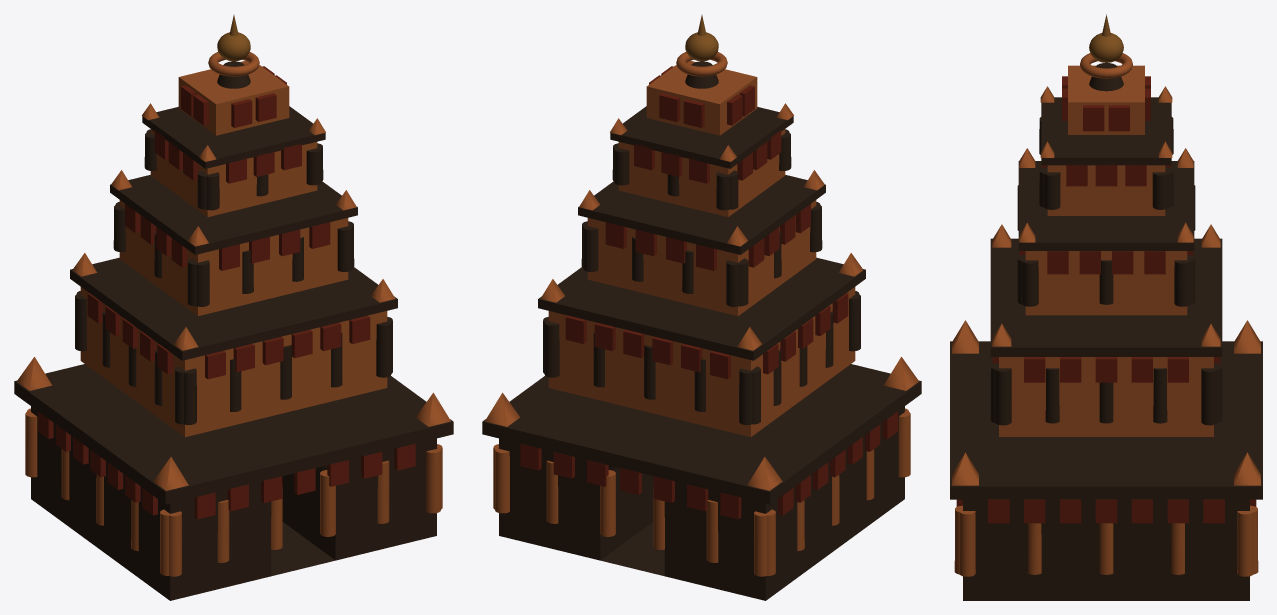
Rendered from chola-gopuram.obj.
The picture shows the model from 3 angles, left to right: view 1: azimuth 30°, elevation 25°; view 2: azimuth 150°, elevation 25°; view 3: azimuth 270°, elevation 25°; orthographic projection. The views are drawn at different scales.
Visible parts, largest first — view 1: base_facade_archway, cornice_0, tier1_wall, cornice_1, tier2_wall, cornice_2, cornice_3, tier3_wall, crown_block, pilaster_back_0, pilaster_front_1, pilaster_front_0 (+15 smaller); view 2: base_facade_archway, cornice_0, tier1_wall, cornice_1, tier2_wall, cornice_2, cornice_3, tier3_wall, crown_block, pilaster_right_0, pilaster_left_0, pilaster_front_0 (+13 smaller); view 3: cornice_0, base_facade_archway, cornice_1, tier1_wall, cornice_2, tier2_wall, cornice_3, tier3_wall, crown_block, pilaster_right_1, pilaster_right_2, pilaster_right_3 (+38 smaller).
Part boxes in pixels (x1=…): base_facade_archway: x1=31, y1=406, x2=436, y2=600; cornice_0: x1=14, y1=364, x2=453, y2=504; tier1_wall: x1=80, y1=287, x2=387, y2=437; cornice_1: x1=70, y1=257, x2=397, y2=360; tier2_wall: x1=119, y1=200, x2=348, y2=315; cornice_2: x1=110, y1=175, x2=357, y2=254; cornice_3: x1=142, y1=106, x2=325, y2=168; tier3_wall: x1=150, y1=129, x2=317, y2=216; crown_block: x1=178, y1=61, x2=289, y2=135; pilaster_back_0: x1=25, y1=132, x2=156, y2=477; pilaster_front_1: x1=217, y1=174, x2=268, y2=562; pilaster_front_0: x1=160, y1=170, x2=212, y2=575; base_facade_archway: x1=499, y1=406, x2=904, y2=600; cornice_0: x1=482, y1=364, x2=921, y2=504; tier1_wall: x1=548, y1=287, x2=855, y2=437; cornice_1: x1=538, y1=257, x2=865, y2=360; tier2_wall: x1=587, y1=200, x2=816, y2=315; cornice_2: x1=578, y1=175, x2=825, y2=254; cornice_3: x1=610, y1=106, x2=793, y2=168; tier3_wall: x1=618, y1=129, x2=785, y2=216; crown_block: x1=646, y1=61, x2=757, y2=135; pilaster_right_0: x1=495, y1=148, x2=629, y2=513; pilaster_left_0: x1=716, y1=172, x2=769, y2=576; pilaster_front_0: x1=779, y1=131, x2=910, y2=477; cornice_0: x1=950, y1=341, x2=1262, y2=499; base_facade_archway: x1=963, y1=499, x2=1249, y2=600; cornice_1: x1=990, y1=238, x2=1222, y2=356; tier1_wall: x1=999, y1=357, x2=1213, y2=436; cornice_2: x1=1018, y1=161, x2=1194, y2=250; tier2_wall: x1=1025, y1=251, x2=1187, y2=315; cornice_3: x1=1041, y1=97, x2=1171, y2=165; tier3_wall: x1=1047, y1=165, x2=1165, y2=215; crown_block: x1=1068, y1=65, x2=1144, y2=134; pilaster_right_1: x1=1039, y1=167, x2=1184, y2=574; pilaster_right_2: x1=1017, y1=255, x2=1113, y2=574; pilaster_right_3: x1=1028, y1=368, x2=1059, y2=574.
Bounding box in the file's own units: 6.7 × 11.19 × 6.1.
